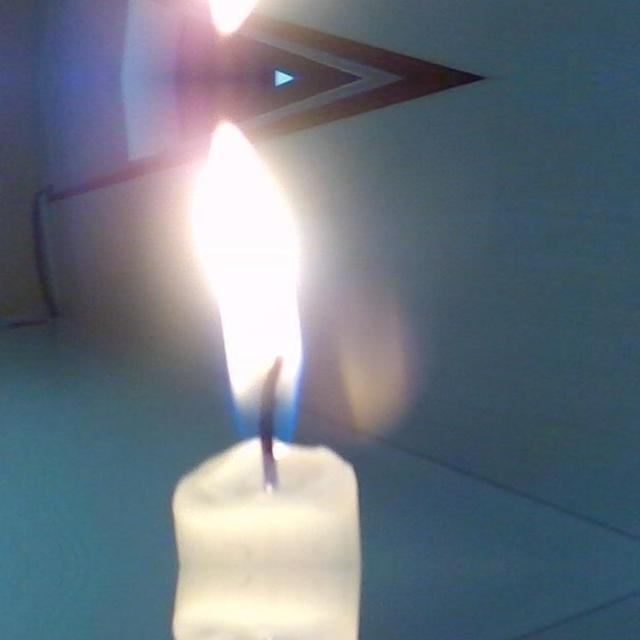smoke: (198, 111, 310, 462)
